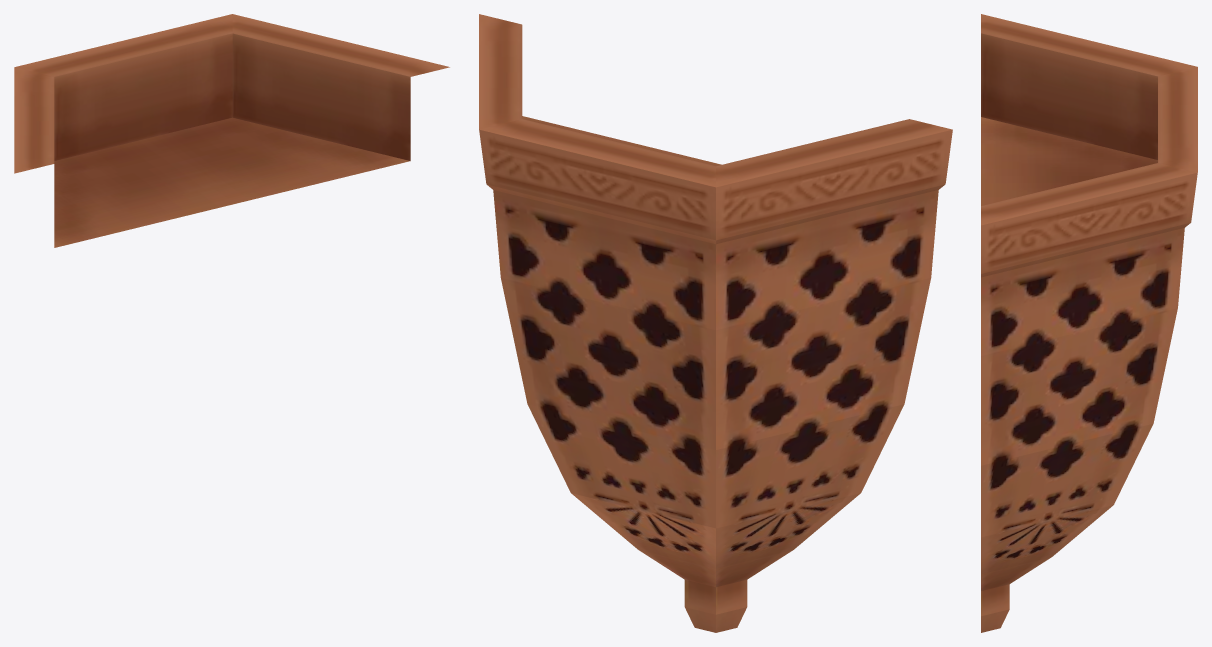
File: wall-lamp.glb
3 views of the same model, side by side, from view 1: azimuth 30°, elevation 25°; view 2: azimuth 150°, elevation 25°; view 3: azimuth 270°, elevation 25° (orthographic). The views are drawn at different scales.
Parts seen in each view (by area): view 1: wallSconce_Lamp_MAT_0; view 2: wallSconce_Lamp_MAT_0; view 3: wallSconce_Lamp_MAT_0.
Part boxes in pixels (<box>): wallSconce_Lamp_MAT_0: <box>14,14,449,247</box>; wallSconce_Lamp_MAT_0: <box>479,14,952,632</box>; wallSconce_Lamp_MAT_0: <box>981,14,1197,632</box>.
Size of the model in its own units: 0.02 by 0.0225 by 0.00866.
1 material, 1 textured.
